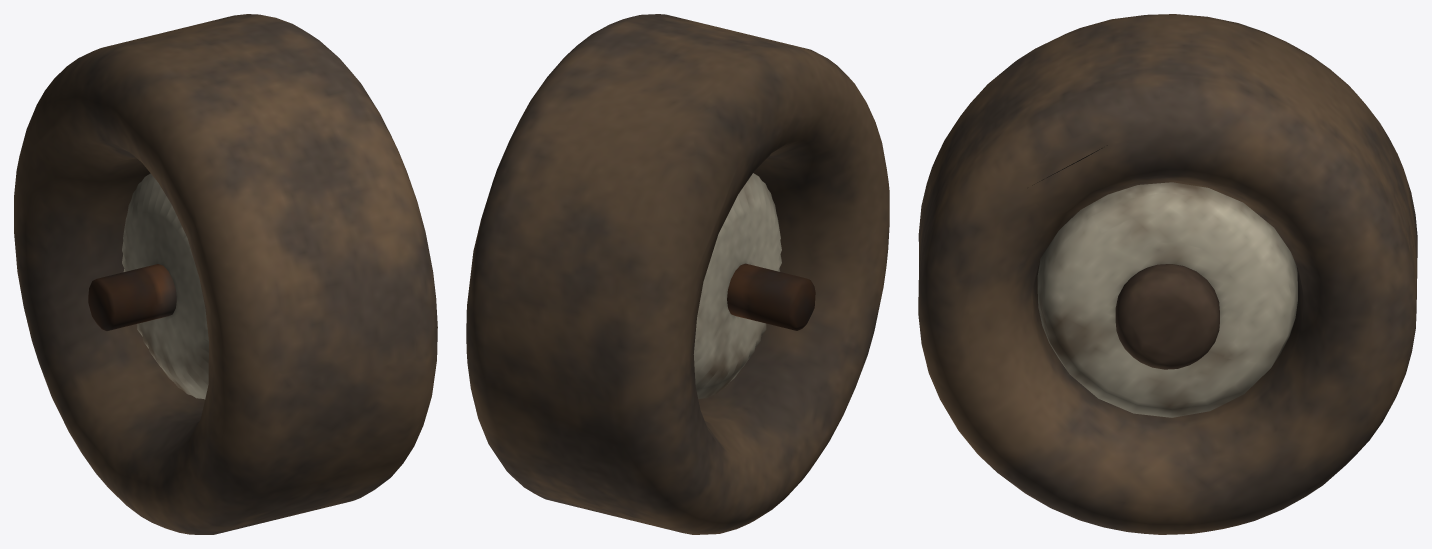
3 renders of one model, left to right at view 1: azimuth 30°, elevation 25°; view 2: azimuth 150°, elevation 25°; view 3: azimuth 270°, elevation 25°, orthographic.
Visible parts, largest first — view 1: wheel_FL; view 2: wheel_FL; view 3: wheel_FL.
Boxes of the visible parts, bbox=[...] form: wheel_FL: bbox=[14, 14, 437, 534]; wheel_FL: bbox=[466, 14, 889, 534]; wheel_FL: bbox=[918, 14, 1417, 534].
Size of the model in its own units: 0.1815 by 0.3293 by 0.3294.
Materials: 1 (1 with a texture image).
